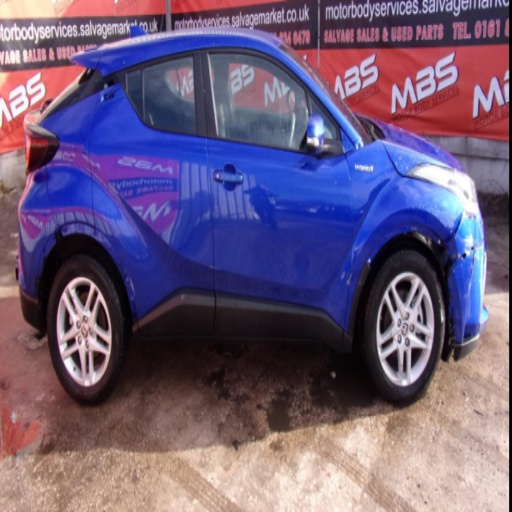dent: (352, 173, 407, 270), (443, 208, 464, 246), (405, 179, 432, 205)
scratch: (459, 230, 475, 255), (462, 279, 472, 300), (451, 252, 465, 263)
